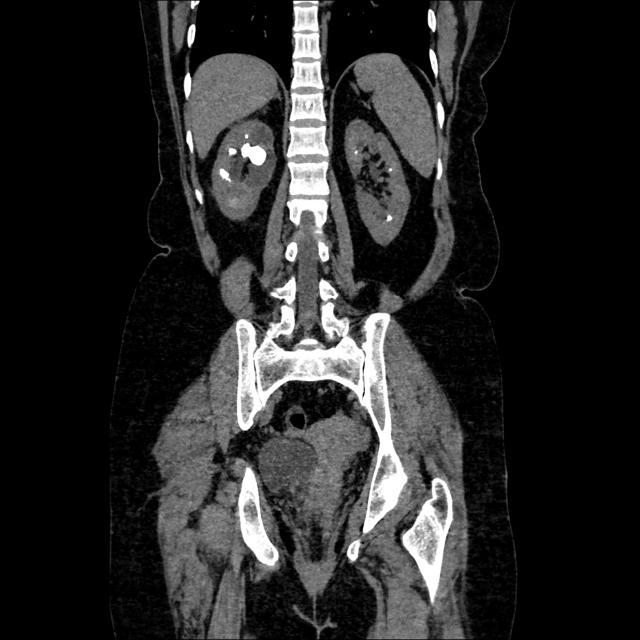kidney: (345, 116, 415, 248), (212, 119, 276, 223)
stone: (251, 146, 267, 171), (218, 170, 234, 183), (240, 141, 252, 158), (384, 214, 394, 223)
